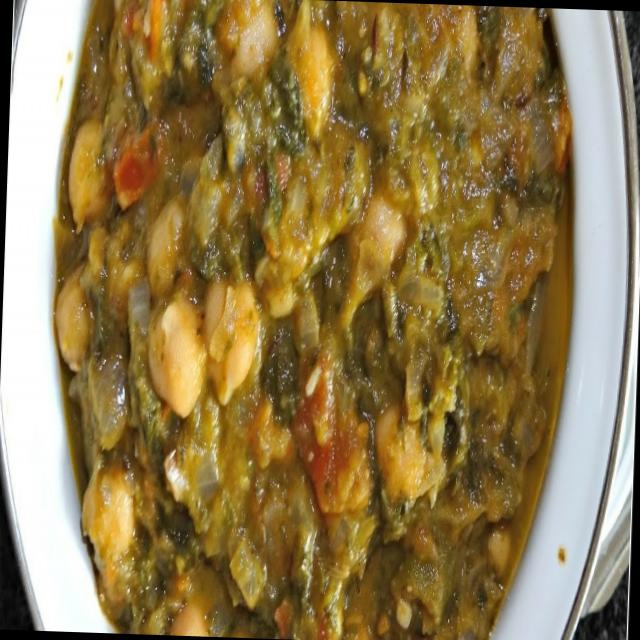Chole: (43, 0, 574, 640)
